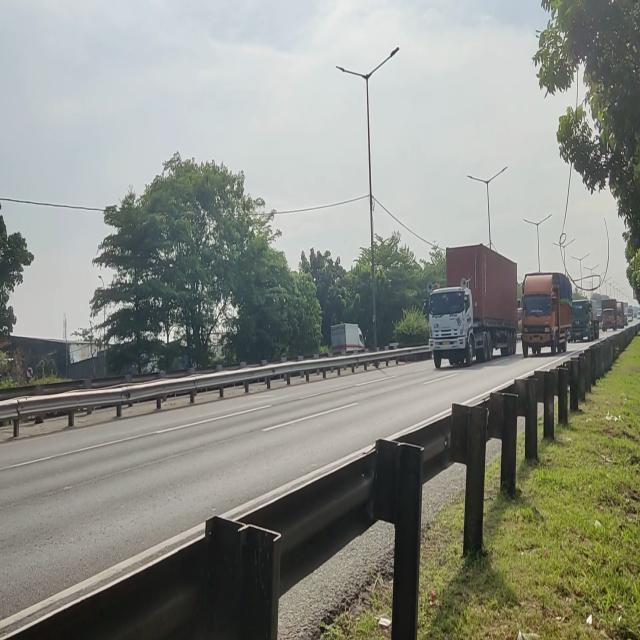Golongan V: (425, 241, 519, 368)
